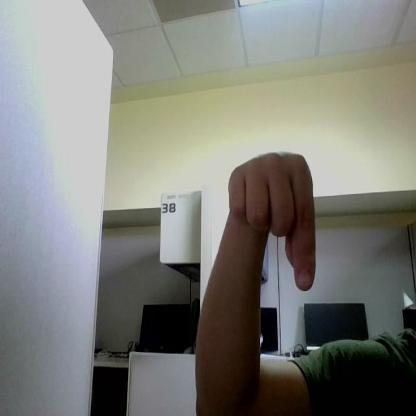Q: (230, 152, 315, 290)
